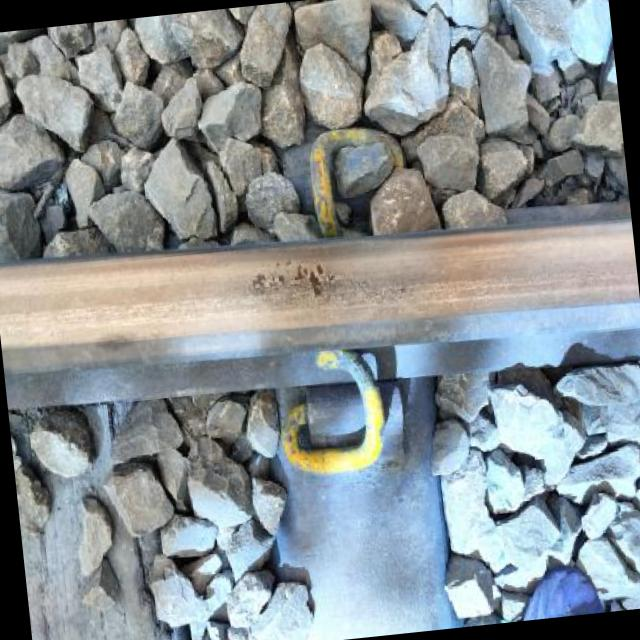non-defective: (0, 191, 640, 420)
